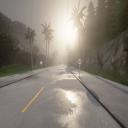speed_limit_90: (78, 58, 82, 64)
